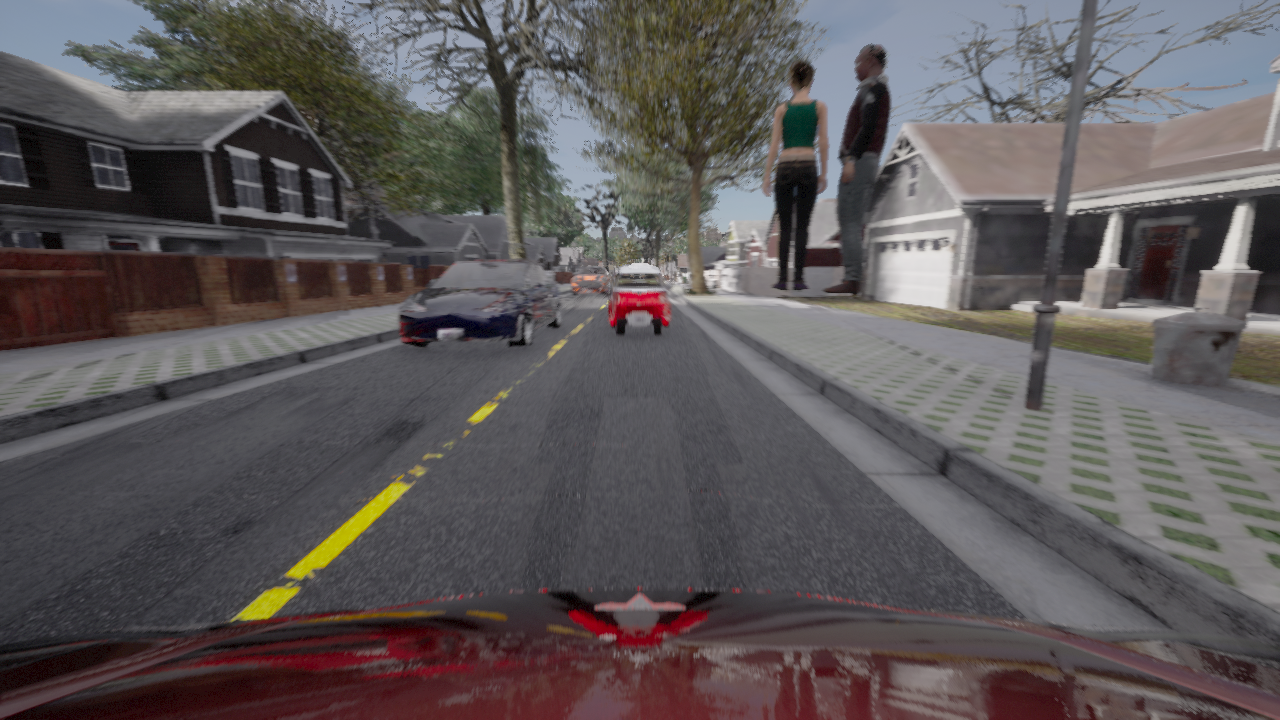cyclist: (0, 588, 1279, 719), (398, 259, 561, 347), (606, 266, 672, 335), (609, 265, 663, 302), (572, 266, 611, 294), (631, 263, 647, 264)
pedestrian: (822, 44, 890, 293), (762, 61, 828, 289)
